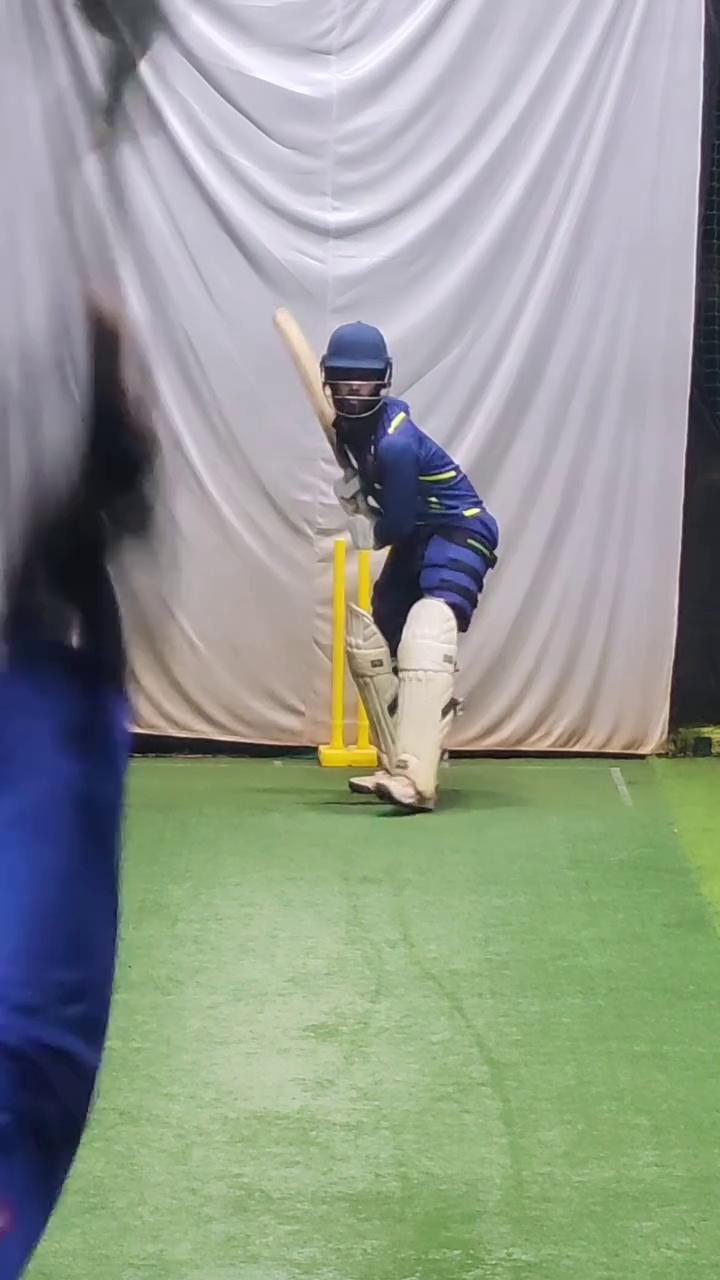bat: (267, 301, 353, 475)
